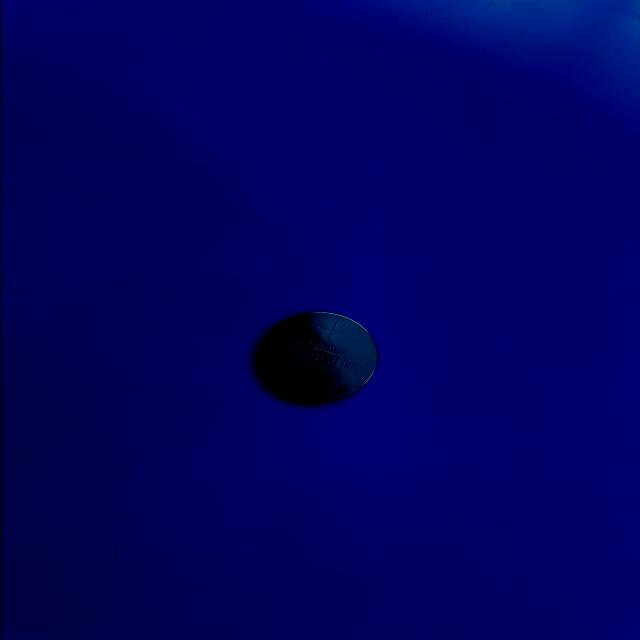COIN: (254, 311, 380, 403)
